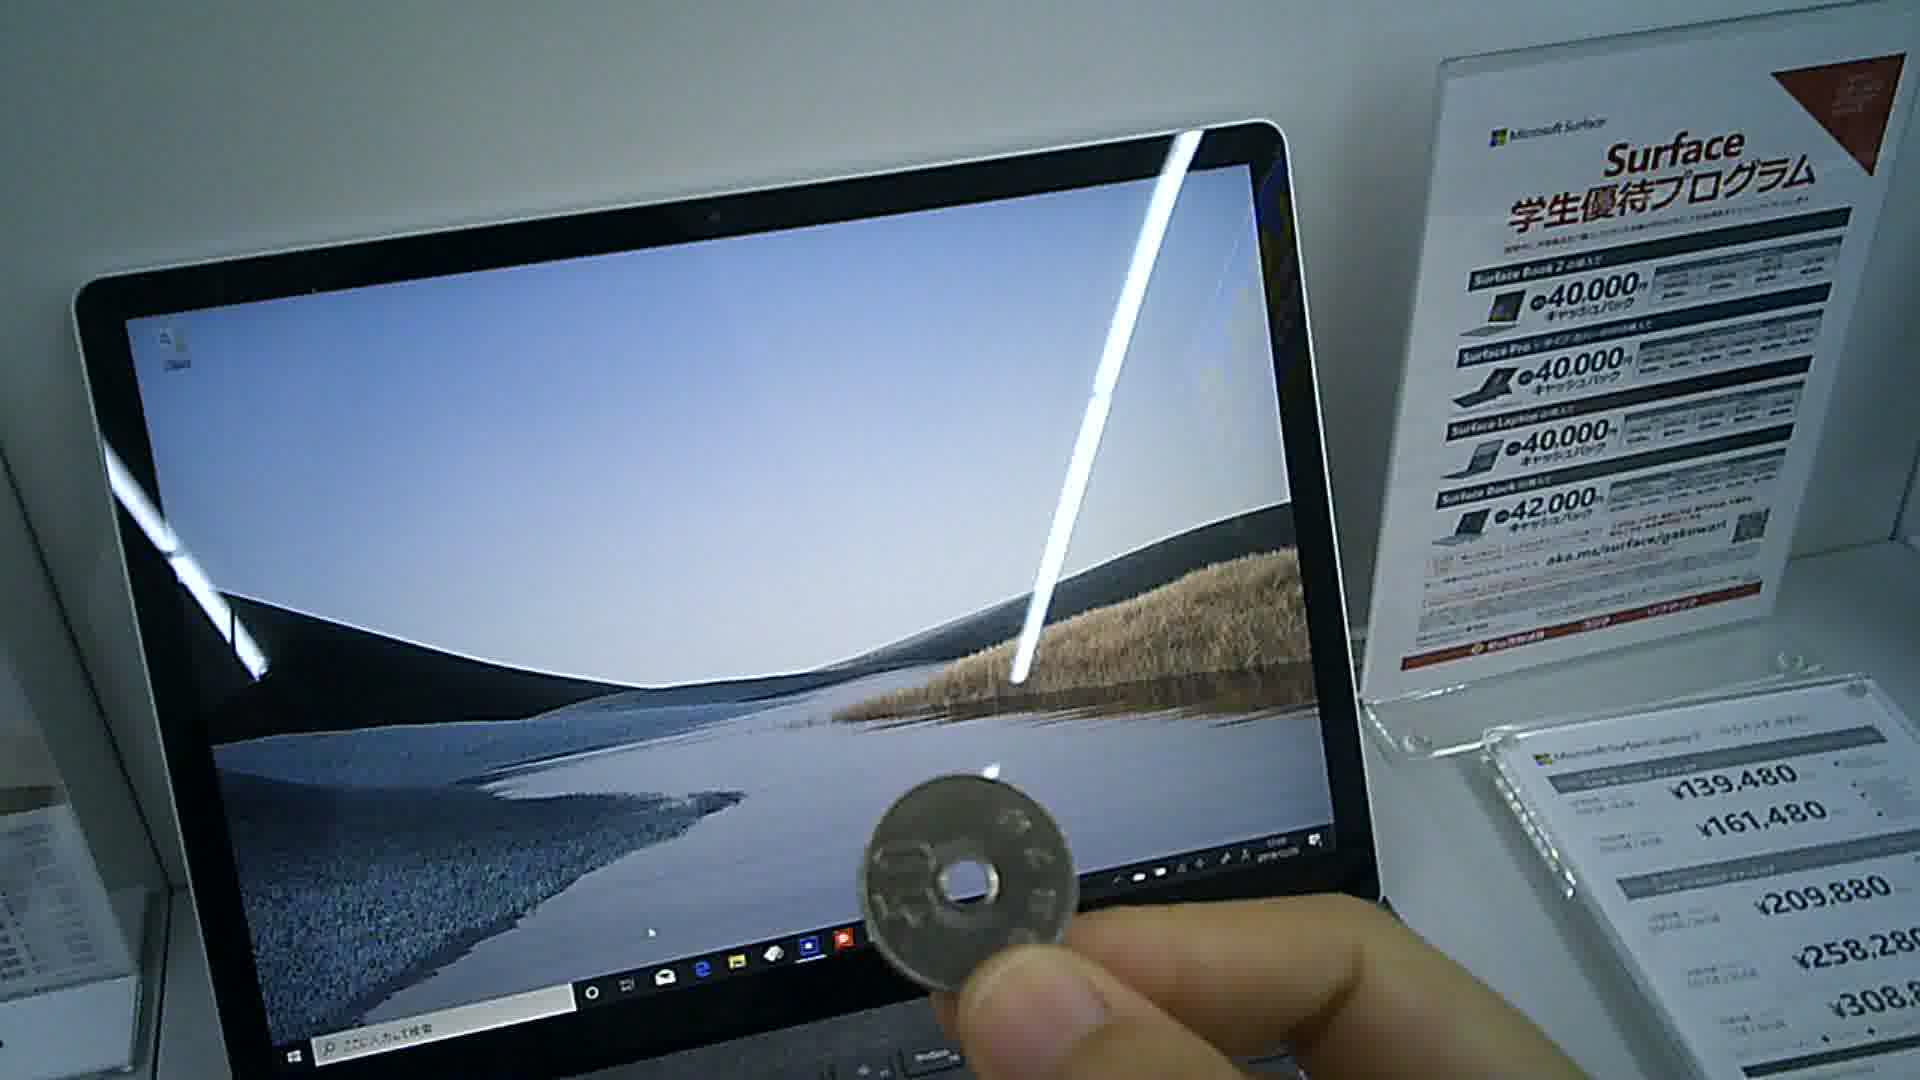50 Yen: (851, 773, 1091, 1002)
